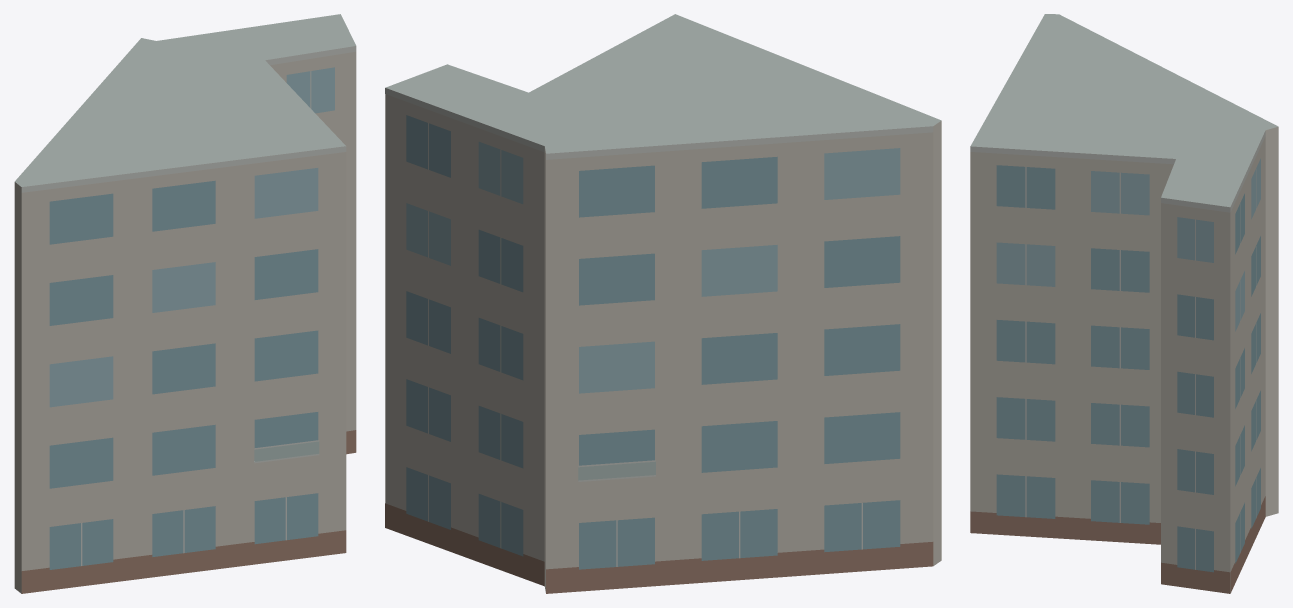
The model's file is survey-upis-32991581.glb.
3 renders of one model, left to right at view 1: azimuth 30°, elevation 25°; view 2: azimuth 150°, elevation 25°; view 3: azimuth 270°, elevation 25°, orthographic. The views are drawn at different scales.
Parts seen in each view (by area): view 1: survey-upis-32991581.tmp; view 2: survey-upis-32991581.tmp; view 3: survey-upis-32991581.tmp.
Part boxes in pixels (x1,y1,x2,y2): survey-upis-32991581.tmp: (14,14,356,593); survey-upis-32991581.tmp: (385,14,941,593); survey-upis-32991581.tmp: (970,14,1278,593).
Bounding box in the file's own units: 18.56 × 17.3 × 12.52.
